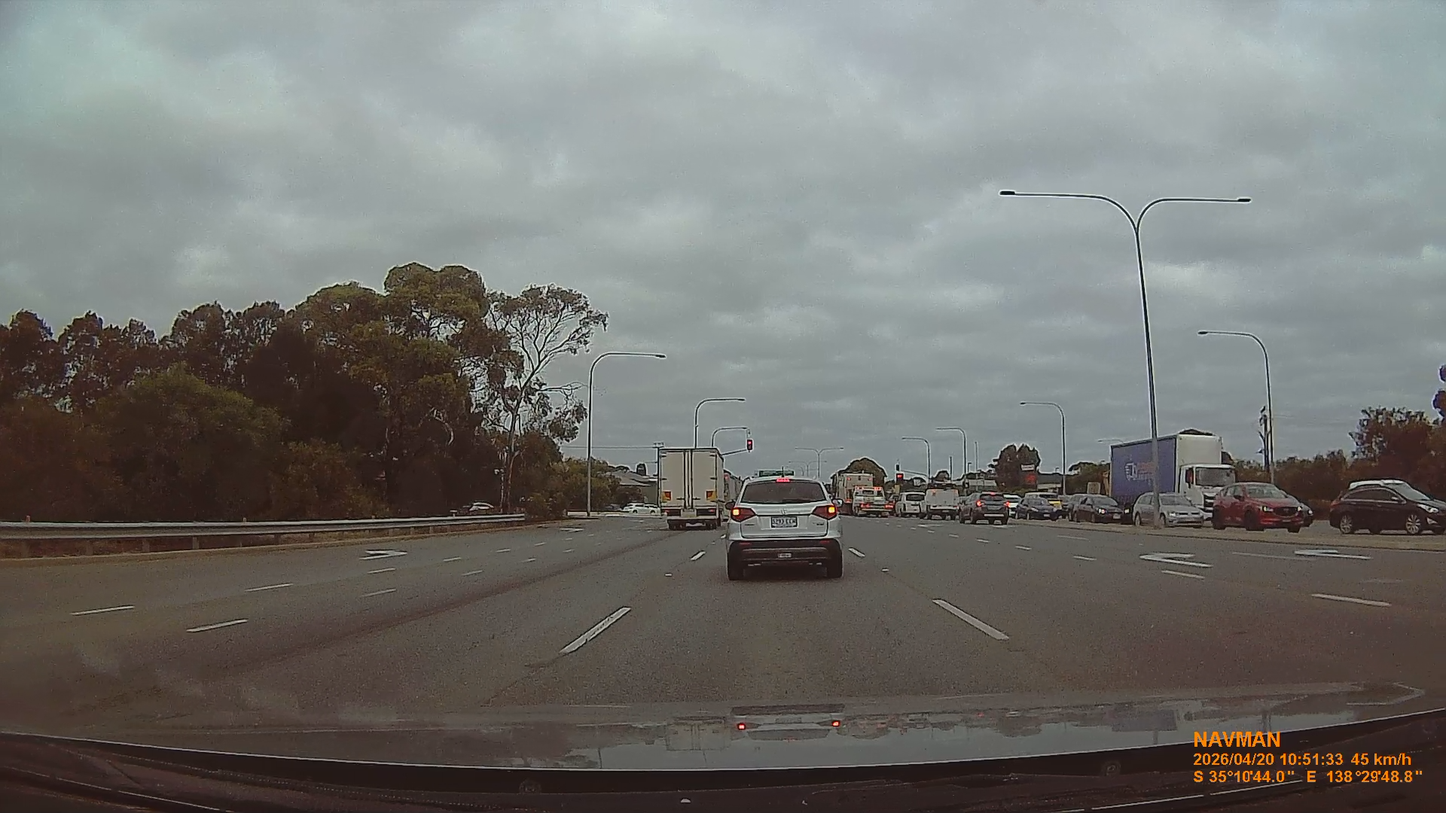road barriers: (1, 512, 528, 556)
